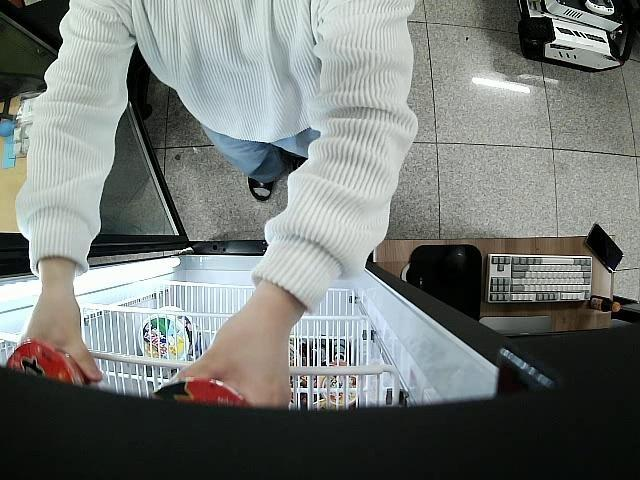02_shinRamen_S: (6, 343, 90, 388), (150, 378, 252, 409)
